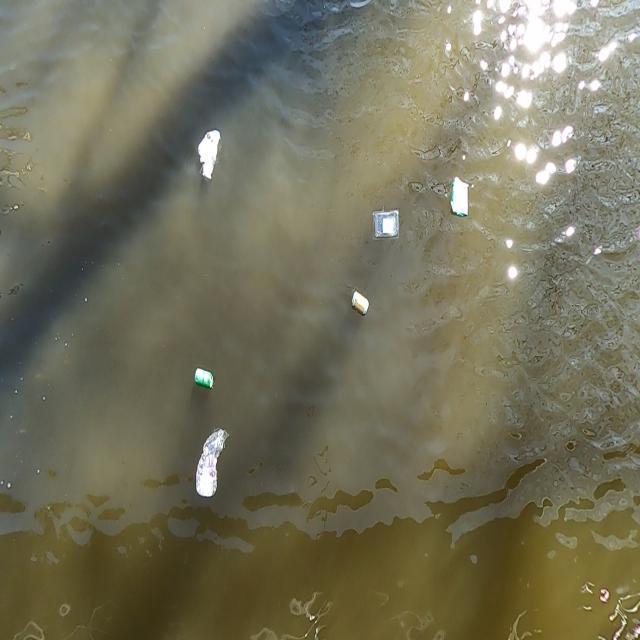Non plastique: (345, 286, 377, 322), (192, 364, 218, 394)
